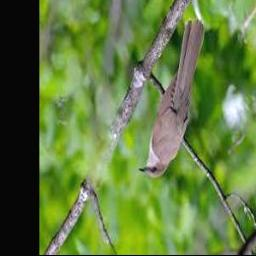Cuckoo: (139, 19, 205, 177)
